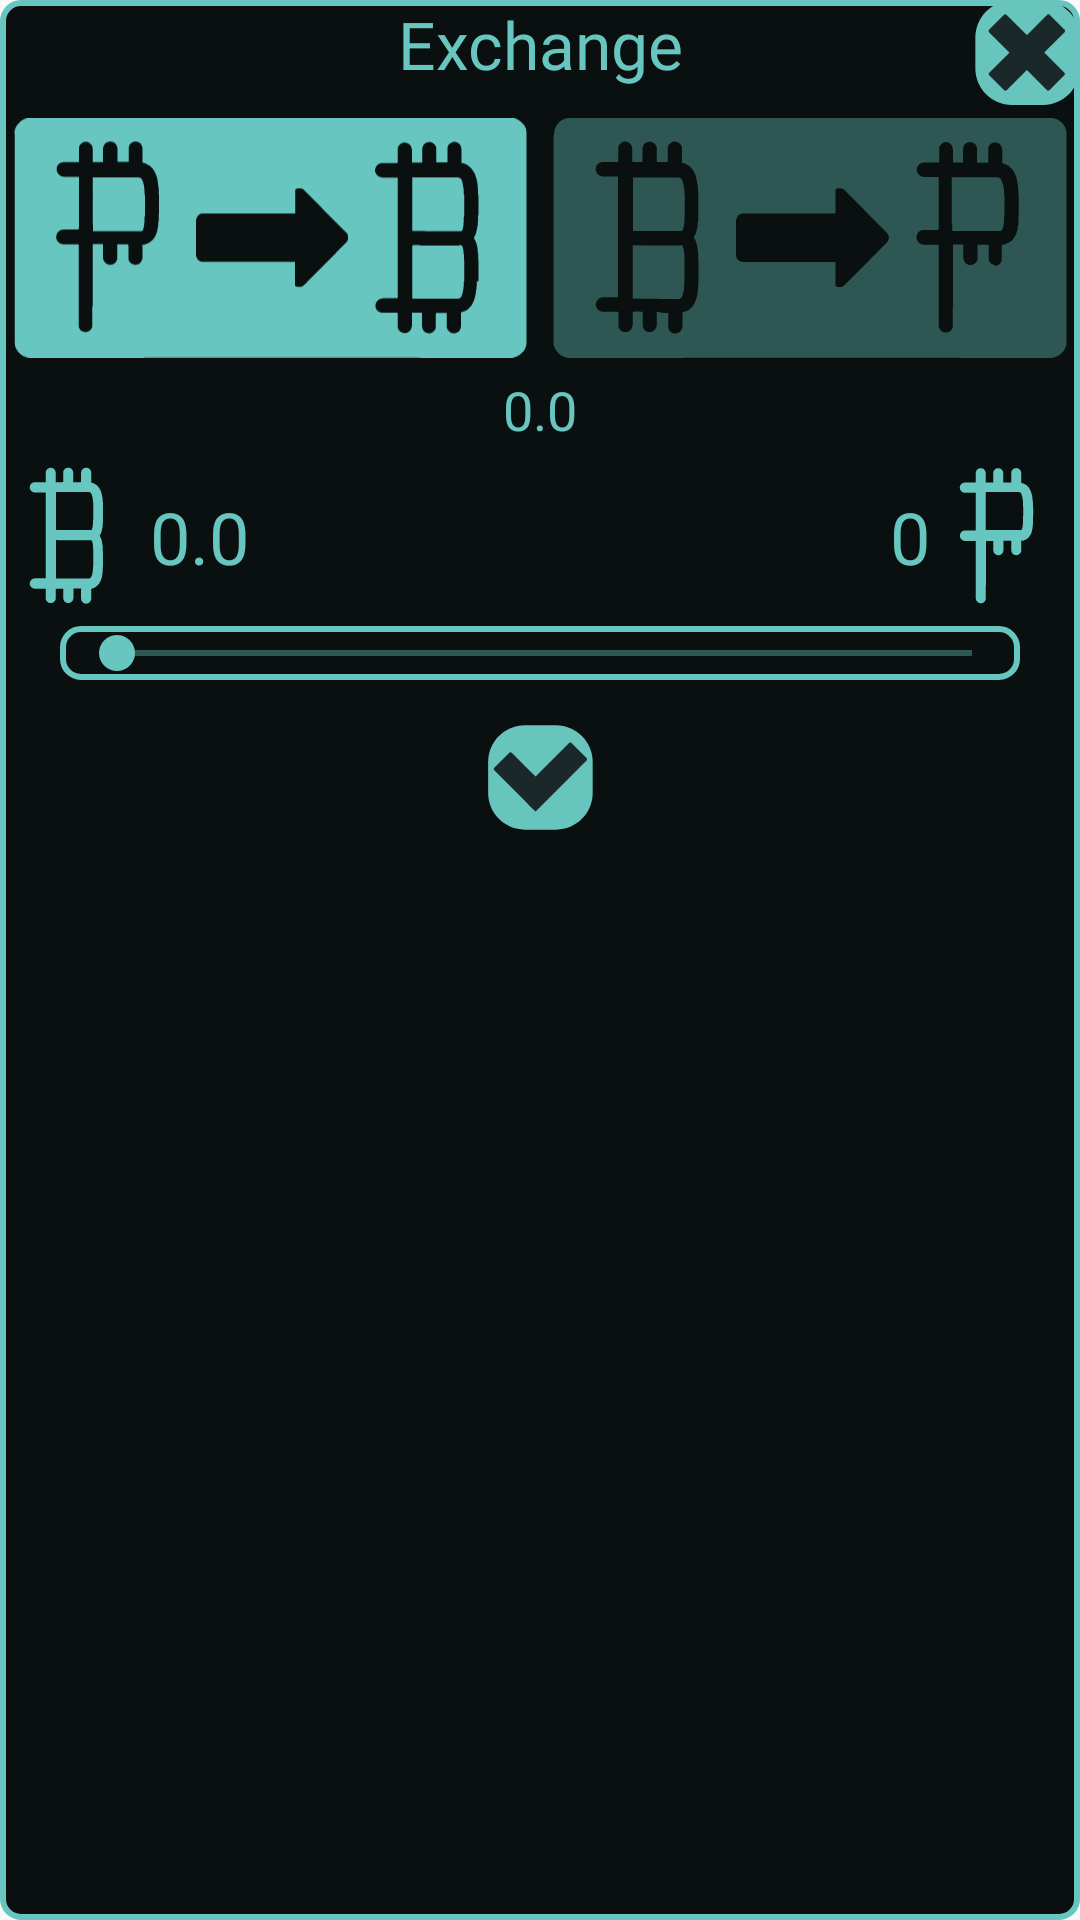

Icons on this 1080*1920 Android screen, each with its box as box=[x1, y1, x2, y2]:
rub: box=[959, 468, 1034, 604]
yes: box=[488, 725, 593, 830]
